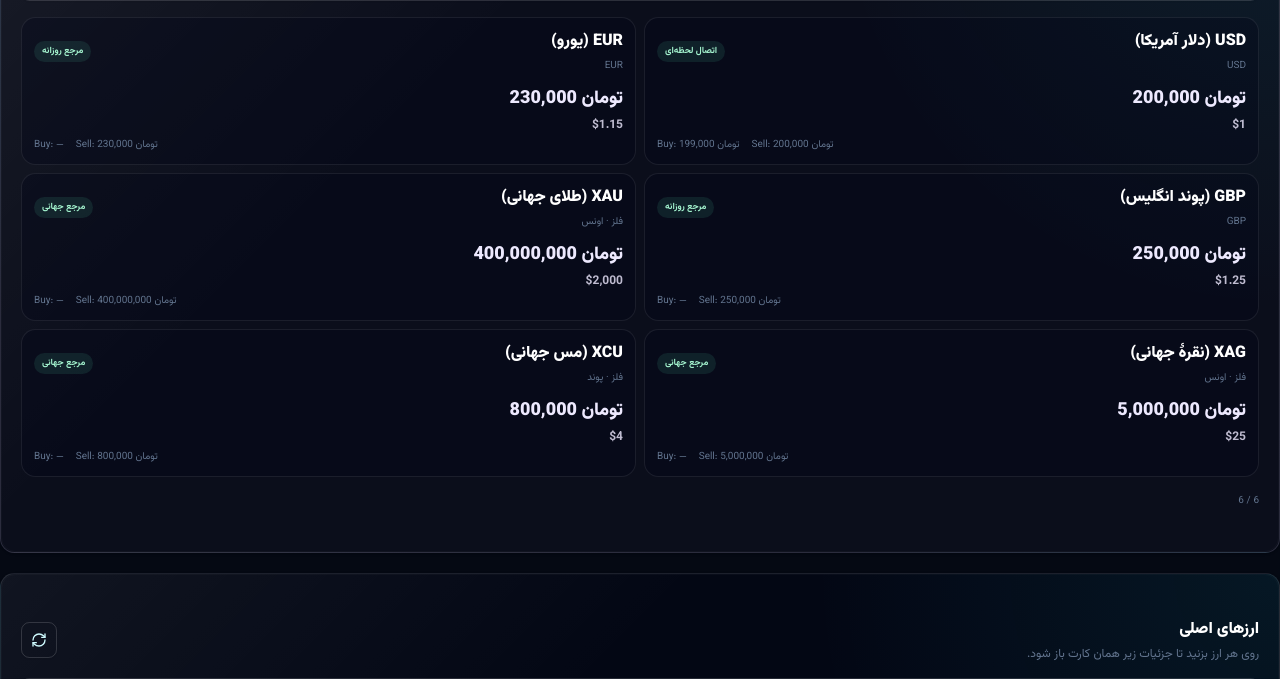
Test case: ClassicCryptoMarket › pins USD, EUR and GBP before metals and opens a metal detail card
The width and height of the screenshot is (1280, 679).
(page scrolled)
Click the text "XCU (مس جهانی)": (564, 354) [505,342,623,366]
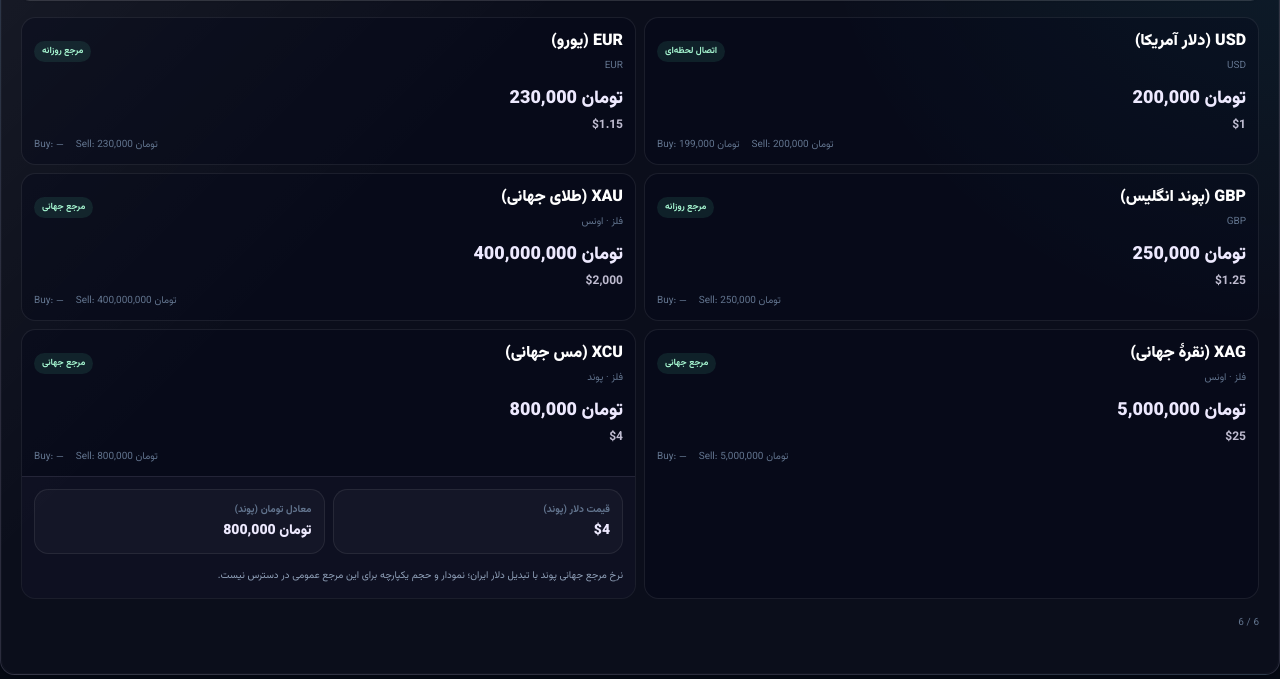
Now the element with test id "macro-detail-panel" shows "نرخ مرجع جهانی", box [218,568,623,583]
